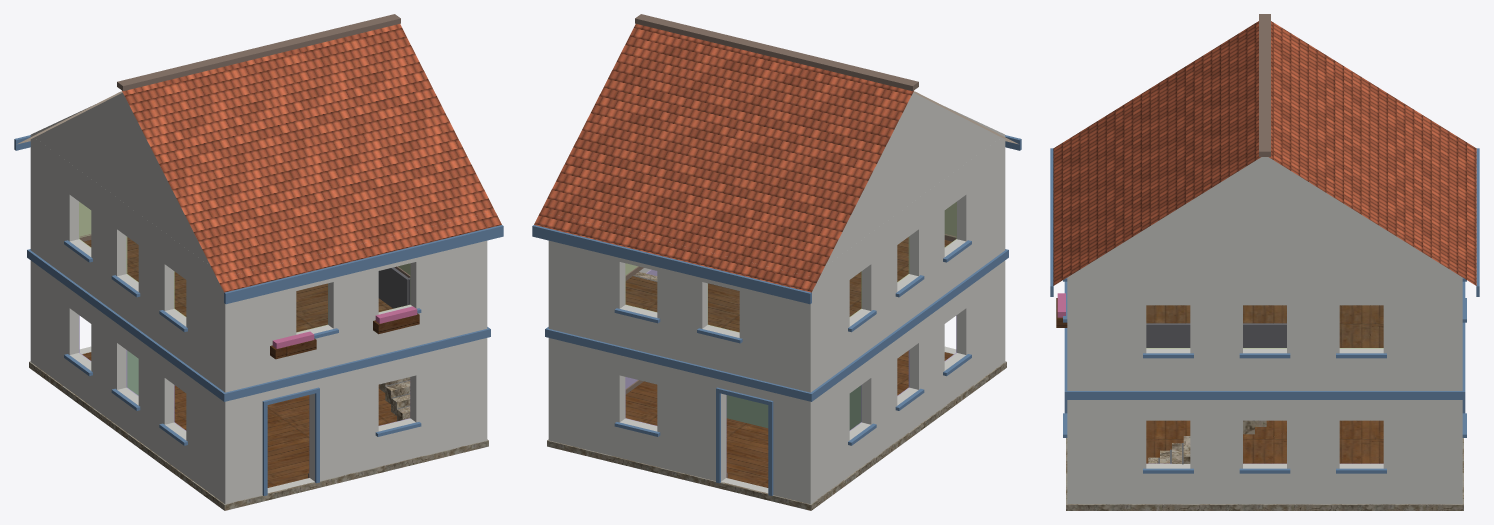
File: cove-house-white.windows-v1.lod0.glb
3 views of the same model, side by side, from view 1: azimuth 30°, elevation 25°; view 2: azimuth 150°, elevation 25°; view 3: azimuth 270°, elevation 25° (orthographic).
Parts seen in each view (by area): view 1: cove-house-white; view 2: cove-house-white; view 3: cove-house-white.
Part boxes in pixels (box(x1,y1,x2,y2)): cove-house-white: box(14, 14, 503, 510); cove-house-white: box(532, 14, 1021, 510); cove-house-white: box(1050, 14, 1479, 510).
Bounding box in the file's own units: 7.42 × 9.12 × 9.78.
Materials: 4 (3 with a texture image).
